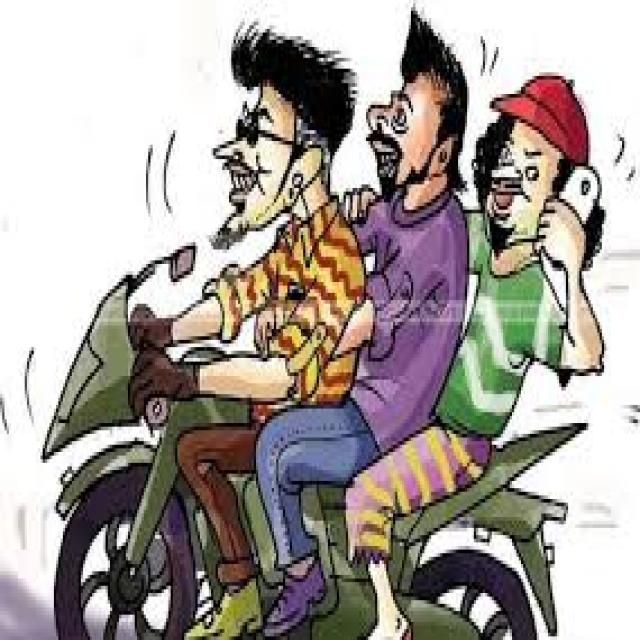Triple_riding: (173, 47, 640, 640)
